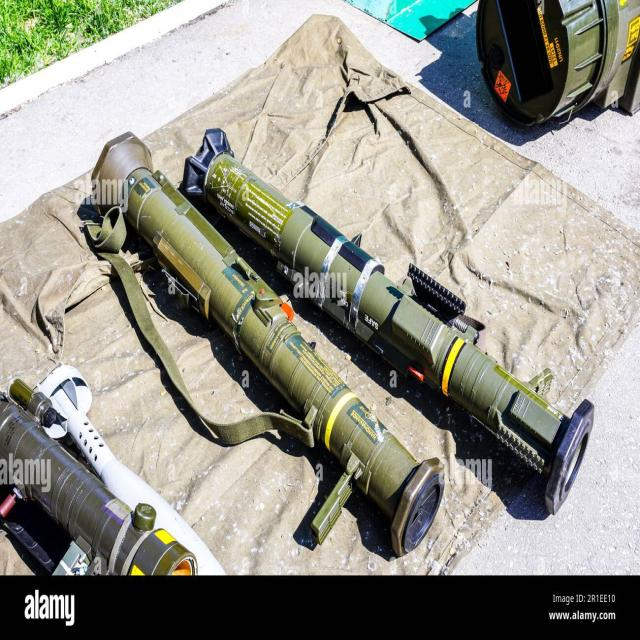bazooka: (45, 85, 601, 566)
